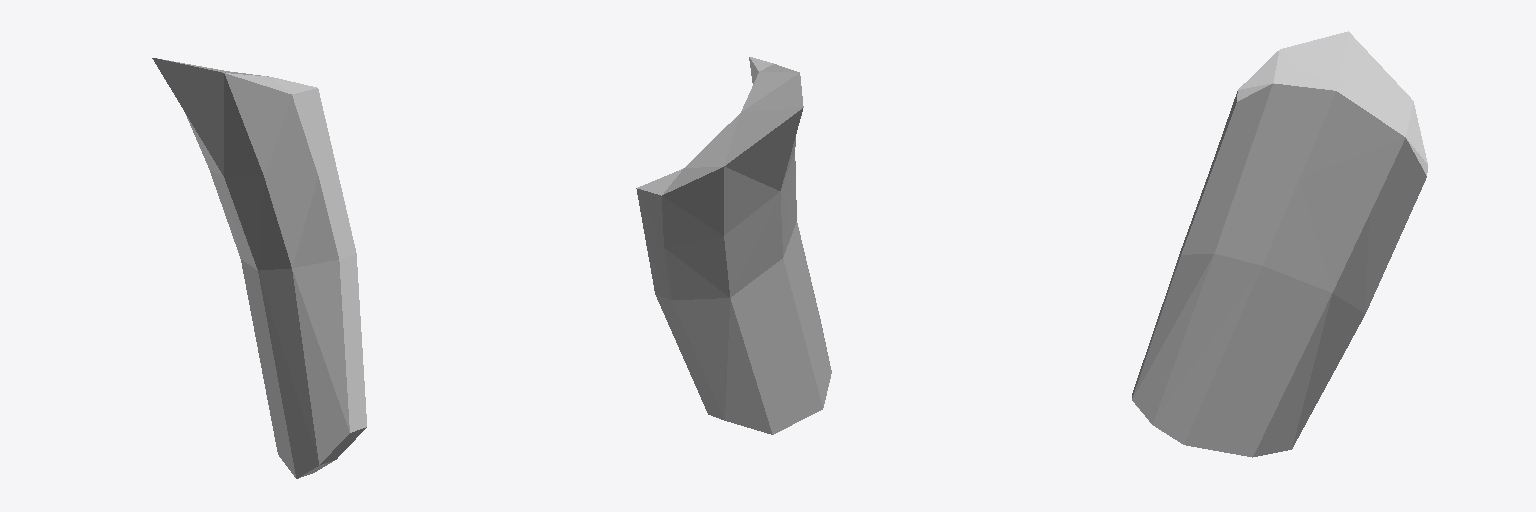
Rendered from RangerGuardR.obj.
The picture shows the model from 3 angles: view 1: azimuth 30°, elevation 25°; view 2: azimuth 150°, elevation 25°; view 3: azimuth 270°, elevation 25°; orthographic projection.
Parts seen in each view (by area): view 1: RangerGuardR; view 2: RangerGuardR; view 3: RangerGuardR.
Part boxes in pixels (x1,y1,x2,y2): RangerGuardR: (152, 58, 366, 478); RangerGuardR: (636, 57, 831, 434); RangerGuardR: (1132, 31, 1427, 457).
Bounding box in the file's own units: 0.1404 × 0.3661 × 0.2573.